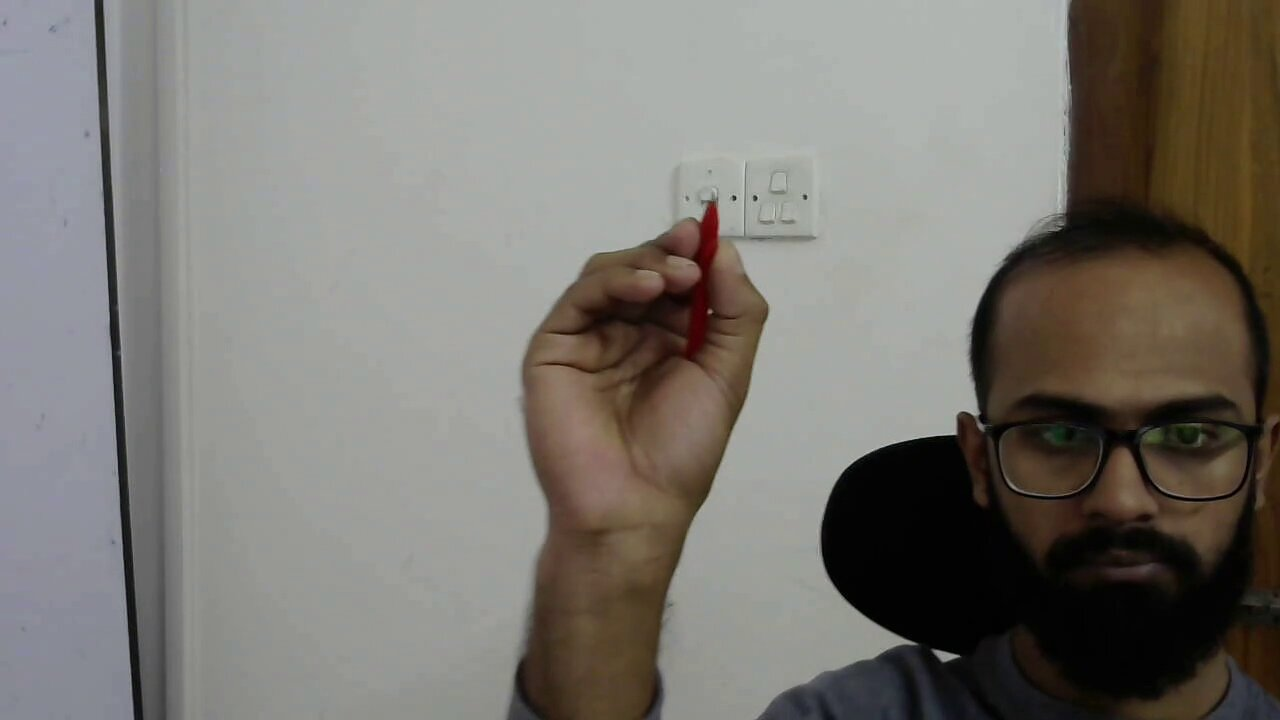pointer: (521, 219, 771, 444)
